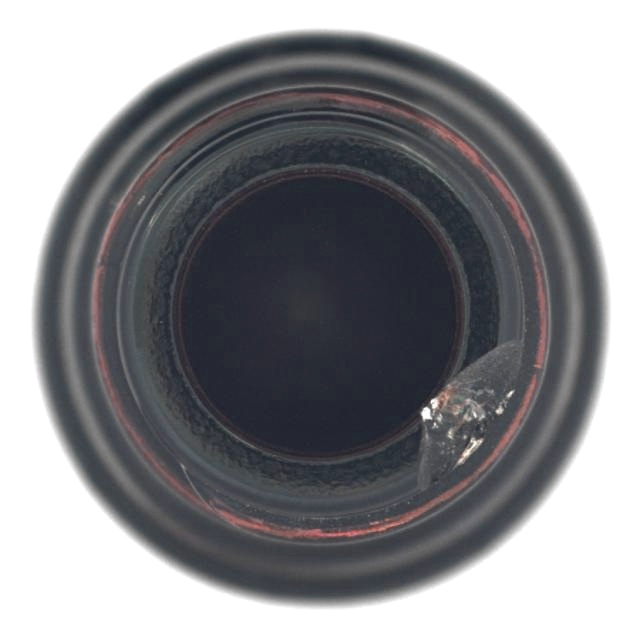bad-broken_small: (33, 29, 611, 611)
